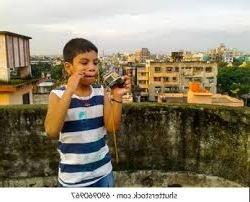Human: (37, 34, 138, 202)
